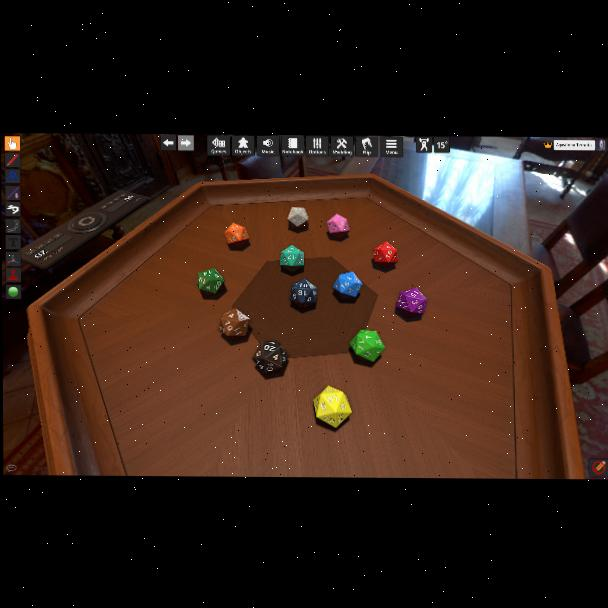d20: (313, 386, 353, 427), (253, 341, 288, 375), (349, 328, 384, 361), (219, 308, 250, 339), (332, 272, 361, 301), (396, 287, 424, 317), (290, 279, 317, 307), (196, 267, 222, 294), (279, 245, 304, 270), (373, 242, 397, 267), (224, 223, 249, 246), (328, 214, 350, 237), (288, 207, 309, 228)
